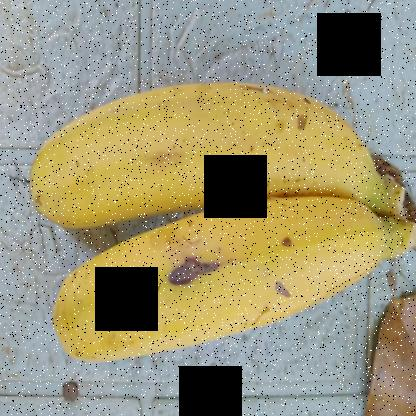freshripe: (29, 58, 390, 220)
ripe: (14, 192, 390, 409)
